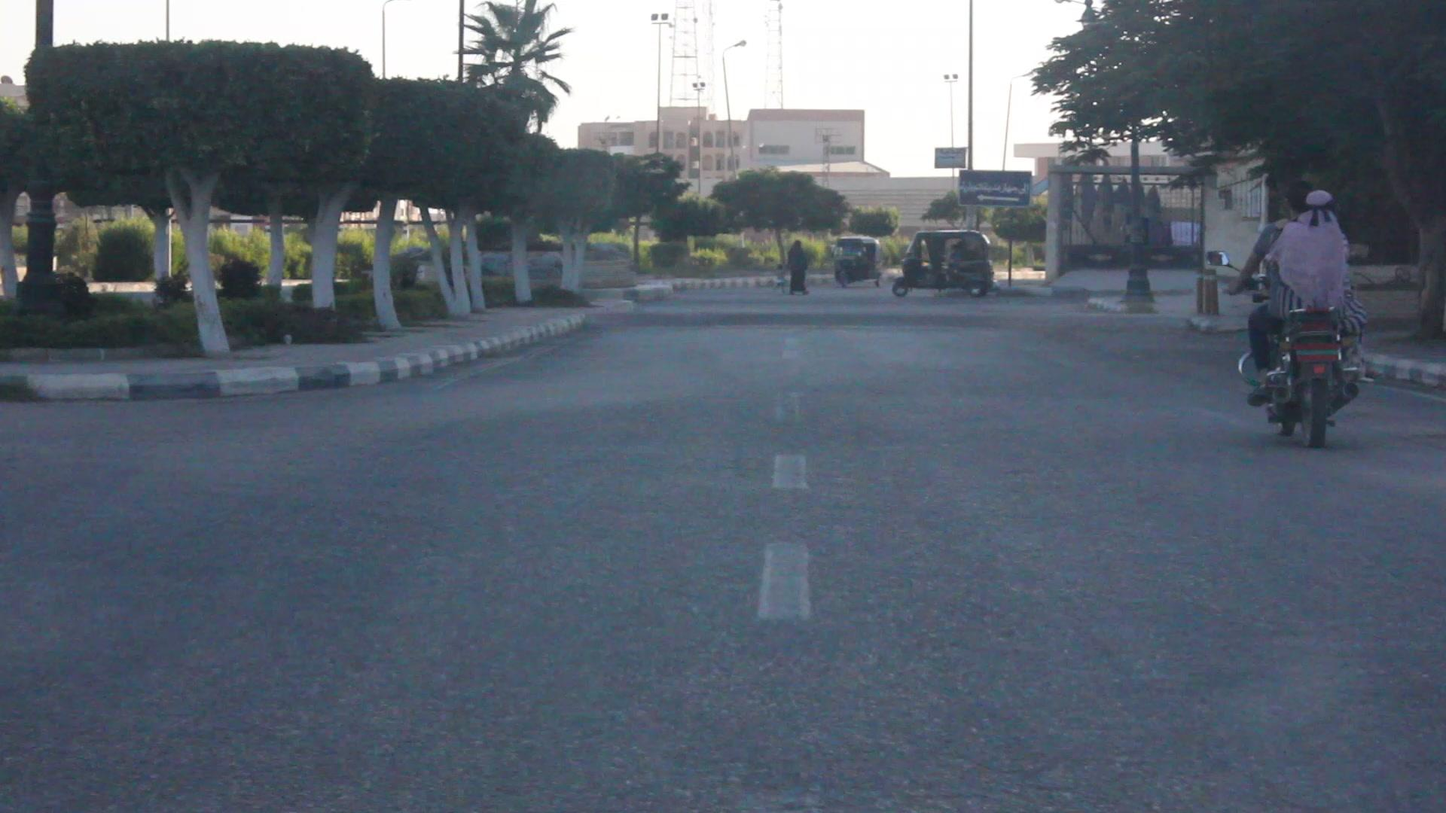Bump: (586, 305, 1122, 332)
